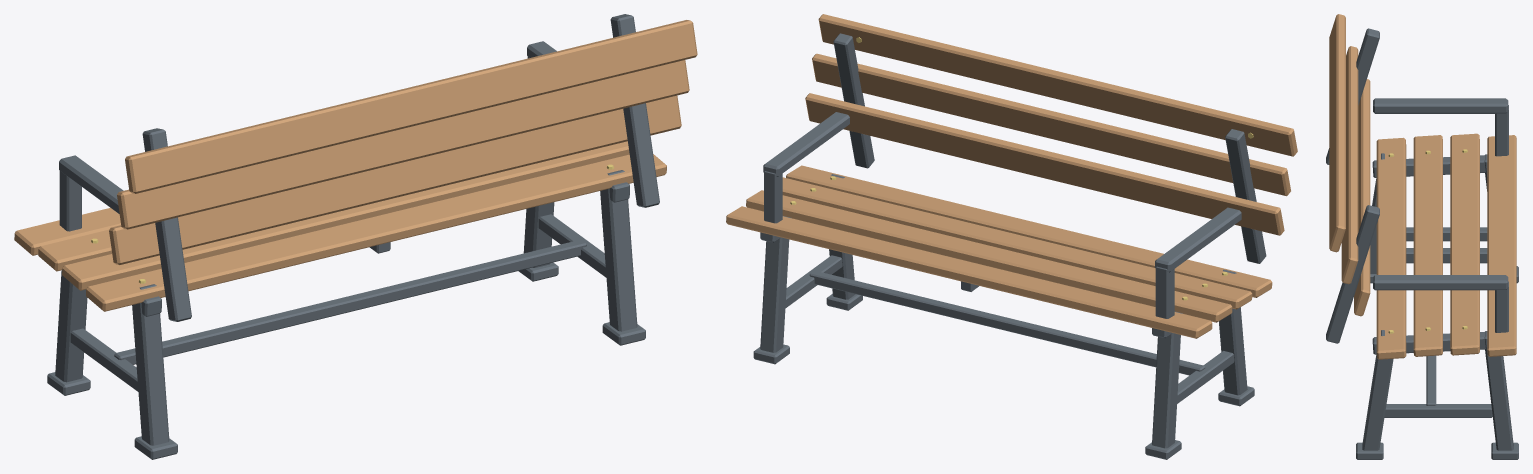
The model's file is Park_Bench.fbx.
3 renders of one model, left to right at view 1: azimuth 30°, elevation 25°; view 2: azimuth 150°, elevation 25°; view 3: azimuth 270°, elevation 25°, orthographic. The views are drawn at different scales.
Parts seen in each view (by area): view 1: Park_Bench; view 2: Park_Bench; view 3: Park_Bench.
Boxes of the visible parts, box(x1,y1,x2,y2) form: Park_Bench: box(14, 14, 697, 459); Park_Bench: box(726, 14, 1297, 459); Park_Bench: box(1326, 14, 1518, 459).
Size of the model in its own units: 1.64 by 0.8914 by 0.6278.
